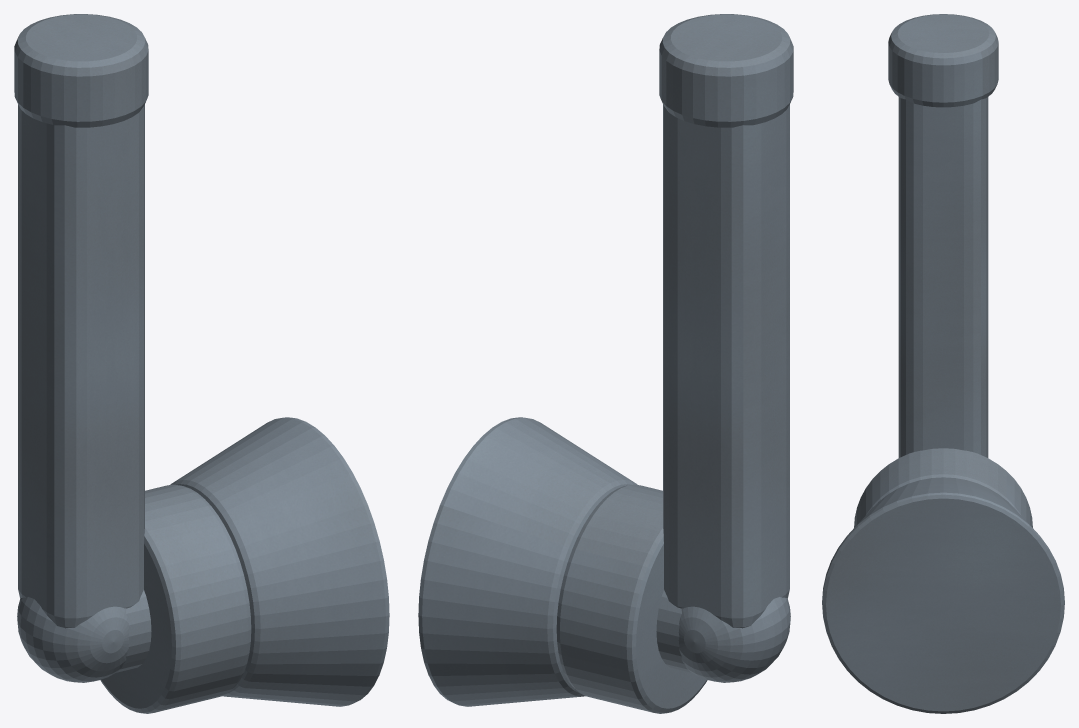
Rendered from lever_handle_vis.obj.
3 views of the same model, side by side, from view 1: azimuth 30°, elevation 25°; view 2: azimuth 150°, elevation 25°; view 3: azimuth 270°, elevation 25° (orthographic). The views are drawn at different scales.
Size of the model in its own units: 0.0748 by 0.1736 by 0.0651.
Materials: 1 (1 with a texture image).
